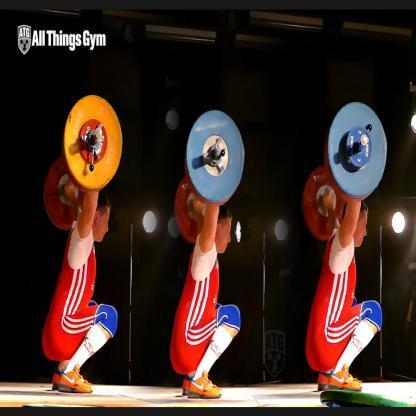barbell: (303, 100, 389, 242), (43, 94, 124, 230), (172, 108, 246, 242)
